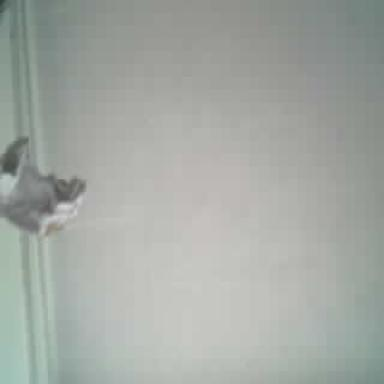paper: (0, 136, 85, 235)
